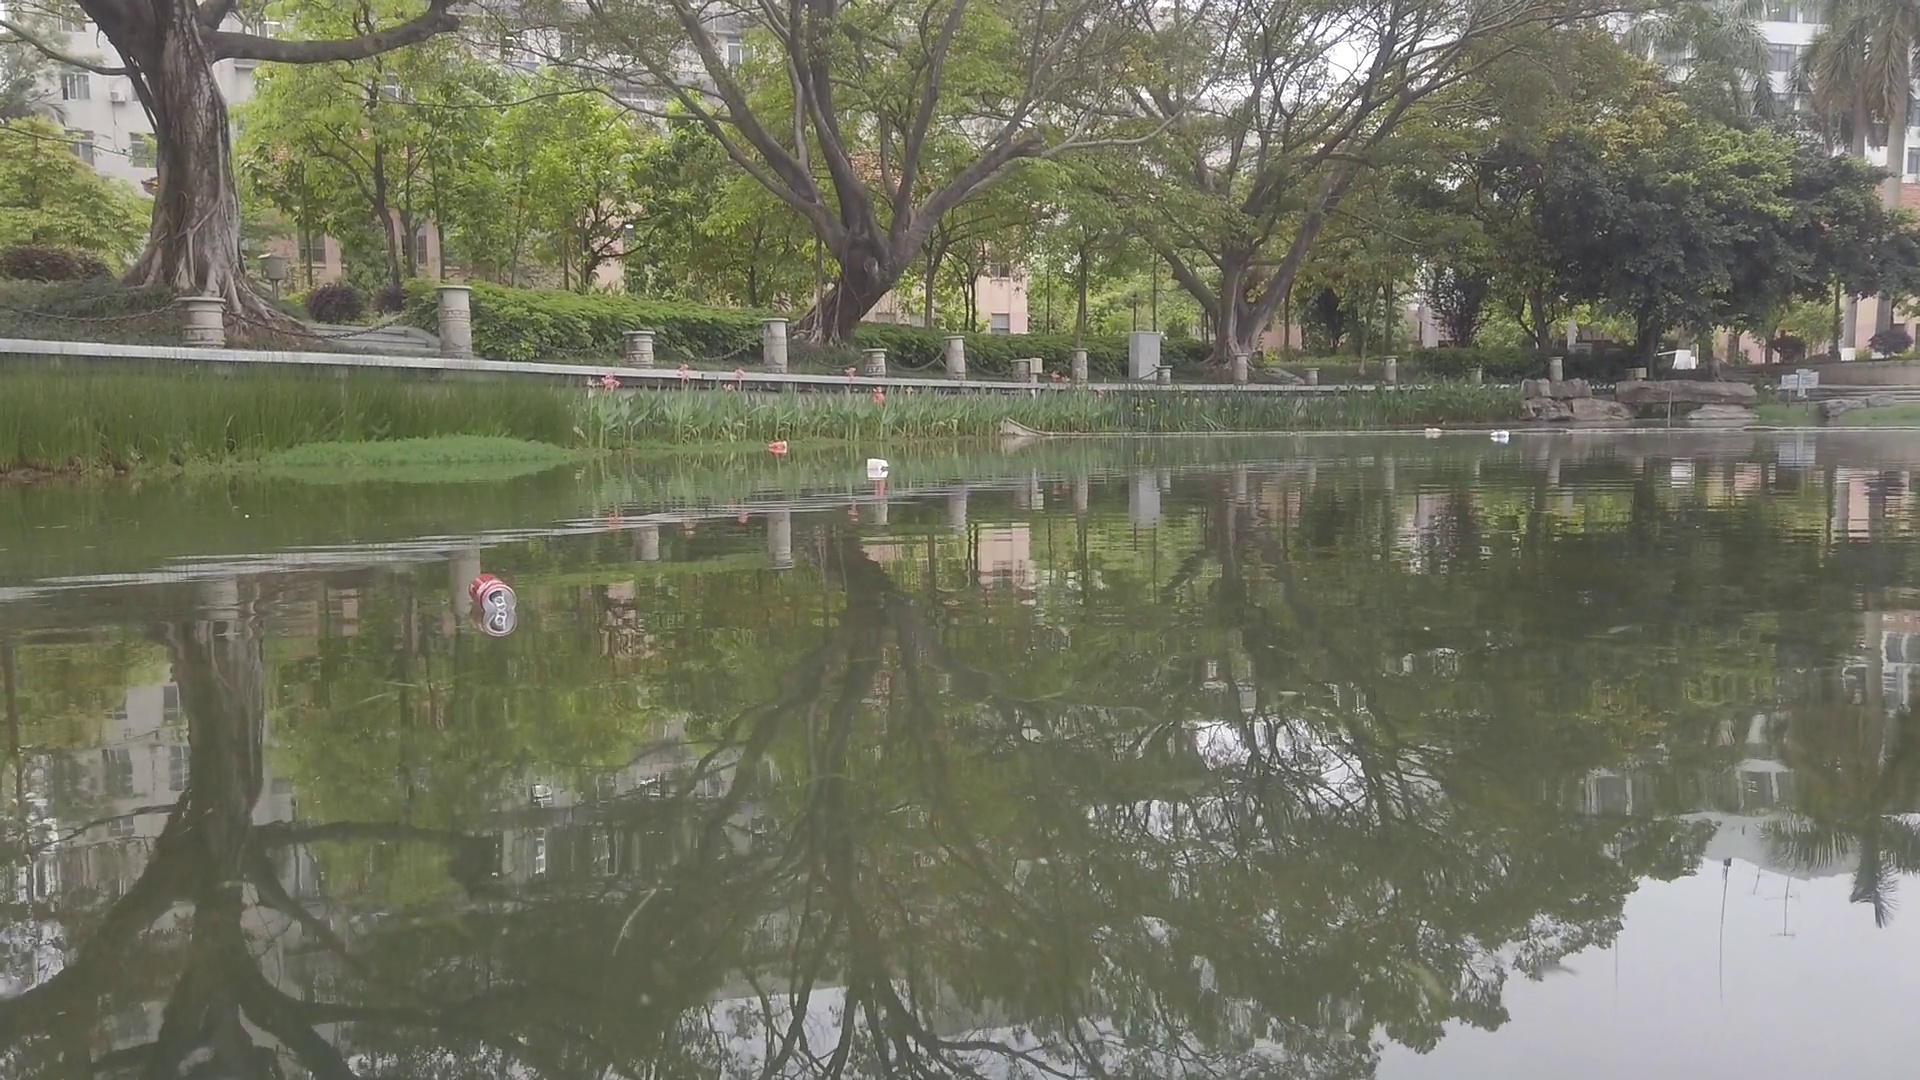bottle: (465, 571, 517, 618), (1491, 429, 1511, 440), (769, 442, 789, 450), (1423, 429, 1443, 434)
carton: (866, 458, 887, 473)
